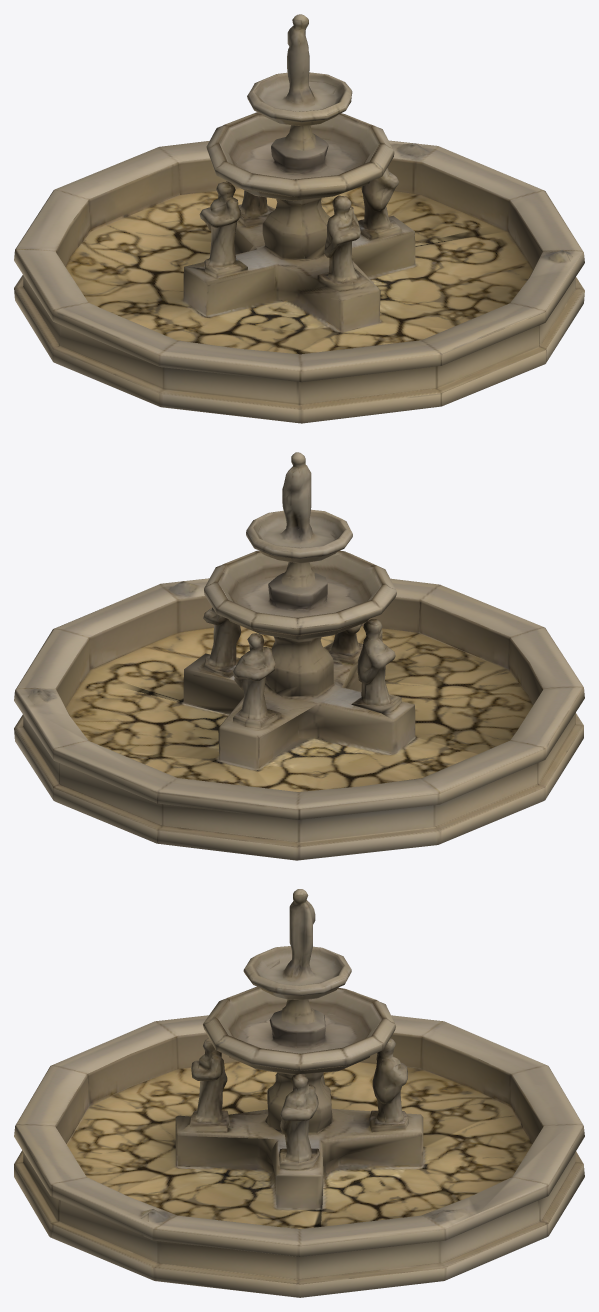
The model's file is Fountain.fbx.
The picture shows the model from 3 angles, top to bottom: view 1: azimuth 30°, elevation 25°; view 2: azimuth 150°, elevation 25°; view 3: azimuth 270°, elevation 25°; orthographic projection.
Visible parts, largest first — view 1: Mesh_0; view 2: Mesh_0; view 3: Mesh_0.
Part boxes in pixels (bbox=[...]): Mesh_0: bbox=[14, 14, 584, 423]; Mesh_0: bbox=[14, 452, 584, 860]; Mesh_0: bbox=[14, 889, 584, 1297].
Size of the model in its own units: 200 by 112 by 200.
Materials: 1 (1 with a texture image).
